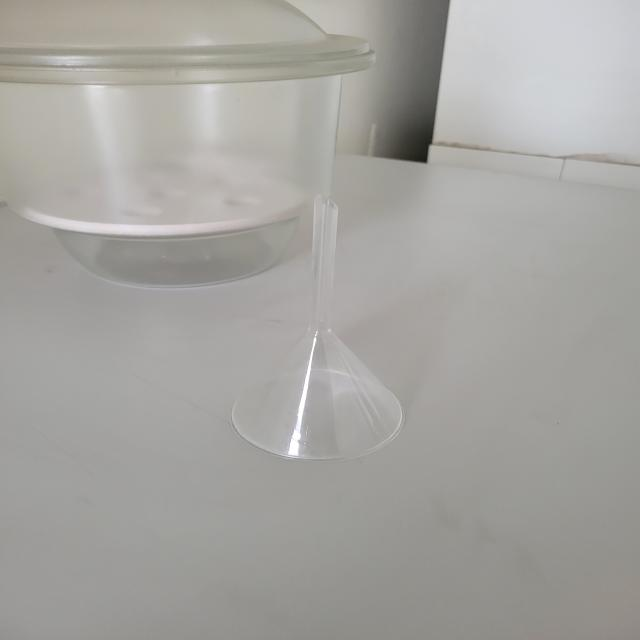Funnel: (200, 162, 436, 484)
